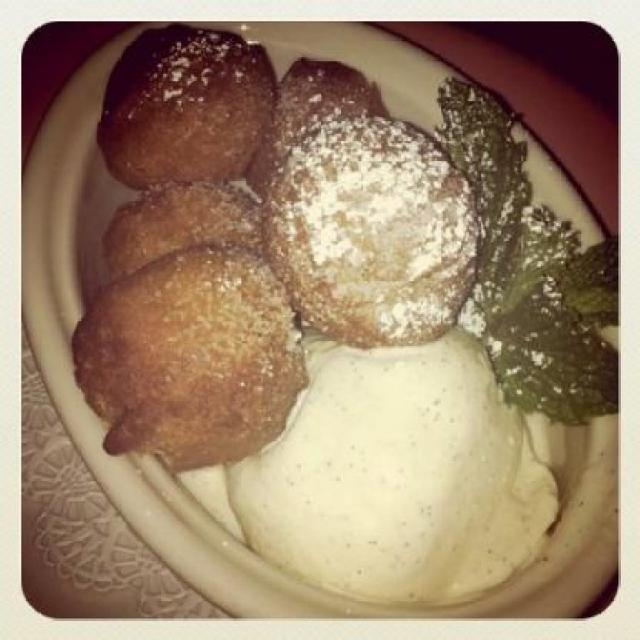Donuts: (93, 25, 496, 458)
